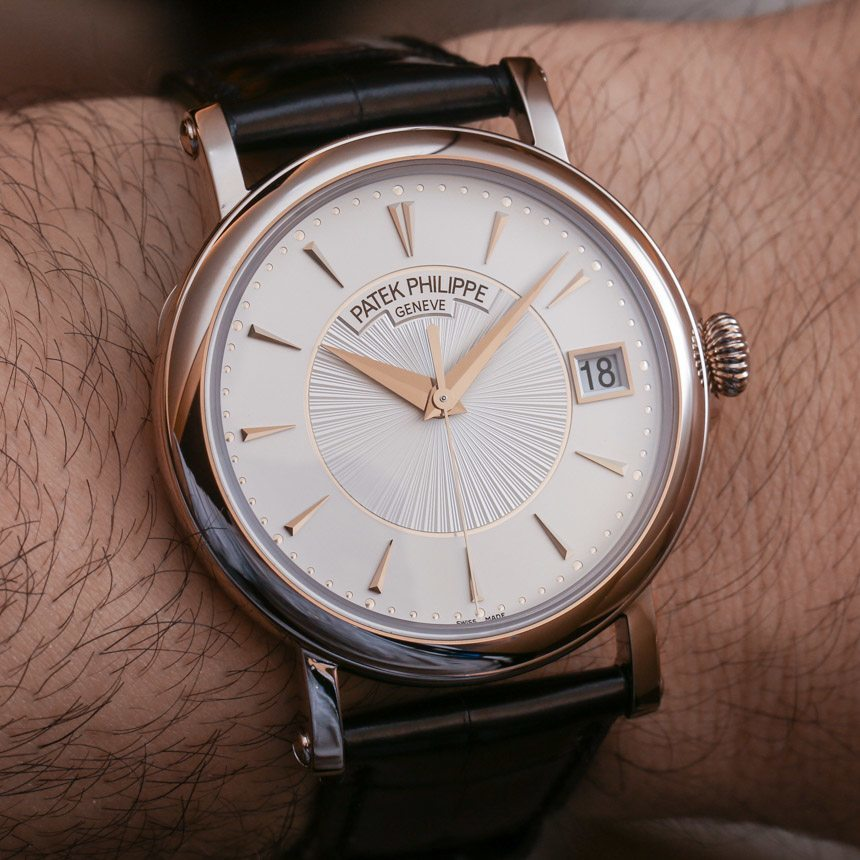clock: (218, 170, 674, 628)
